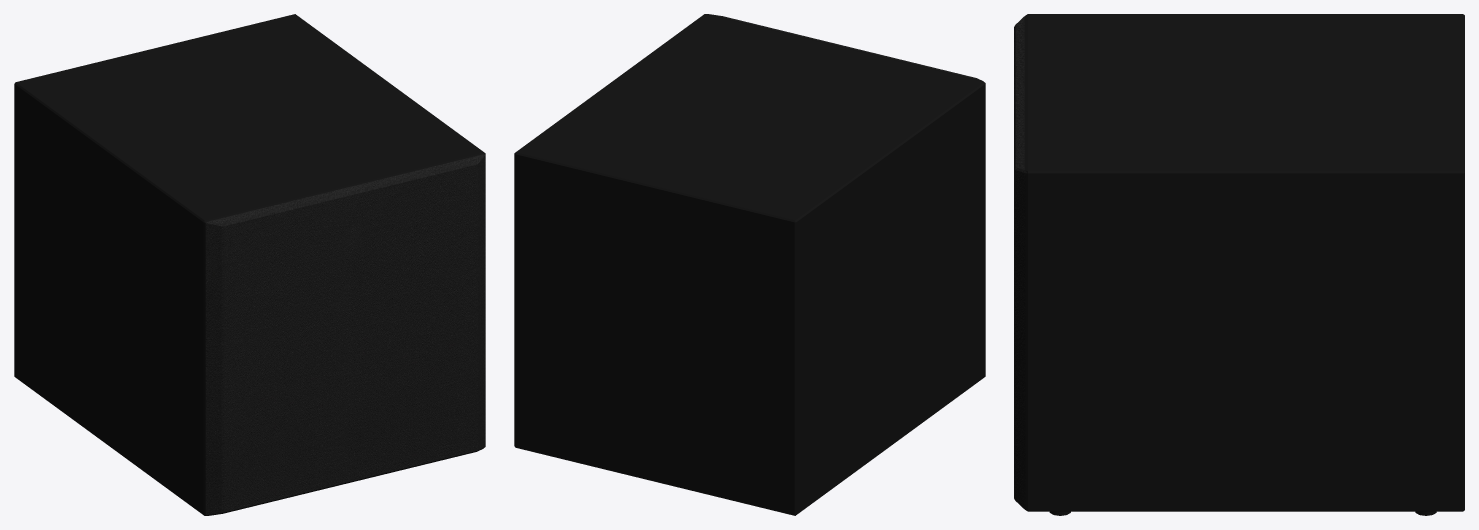
The model's file is sound1a.FBX.
The picture shows the model from 3 angles, left to right: view 1: azimuth 30°, elevation 25°; view 2: azimuth 150°, elevation 25°; view 3: azimuth 270°, elevation 25°; orthographic projection. The views are drawn at different scales.
Parts seen in each view (by area): view 1: sound1a; view 2: sound1a; view 3: sound1a.
Part boxes in pixels (bbox=[...]): sound1a: bbox=[14, 14, 485, 515]; sound1a: bbox=[514, 14, 985, 515]; sound1a: bbox=[1014, 14, 1464, 515].
Size of the model in its own units: 0.445 by 0.5346 by 0.4613.
